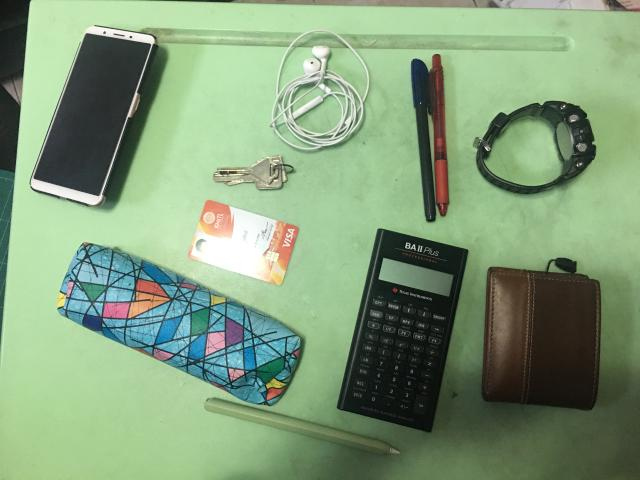Keys: (214, 155, 288, 190)
Mobile phone: (30, 26, 158, 206)
Pen: (411, 59, 436, 221), (429, 54, 449, 216)
Wallet: (481, 266, 601, 410)
Watch: (475, 101, 596, 194)
wire: (271, 30, 370, 150)
